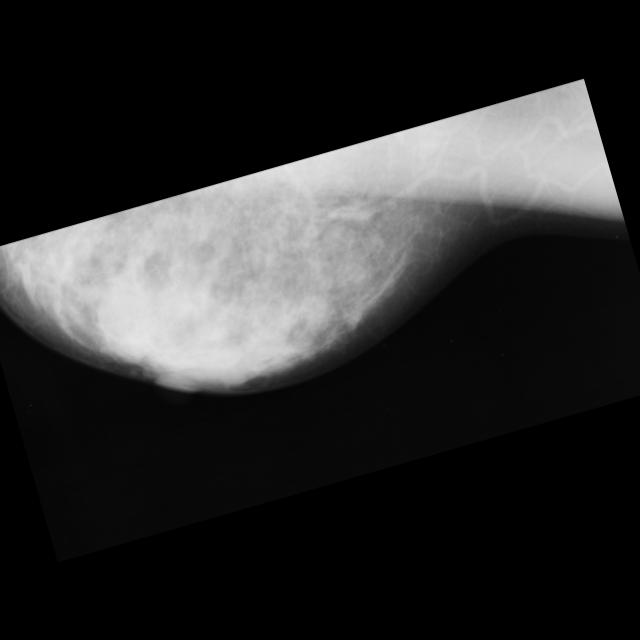ARCH: (288, 0, 597, 200)
